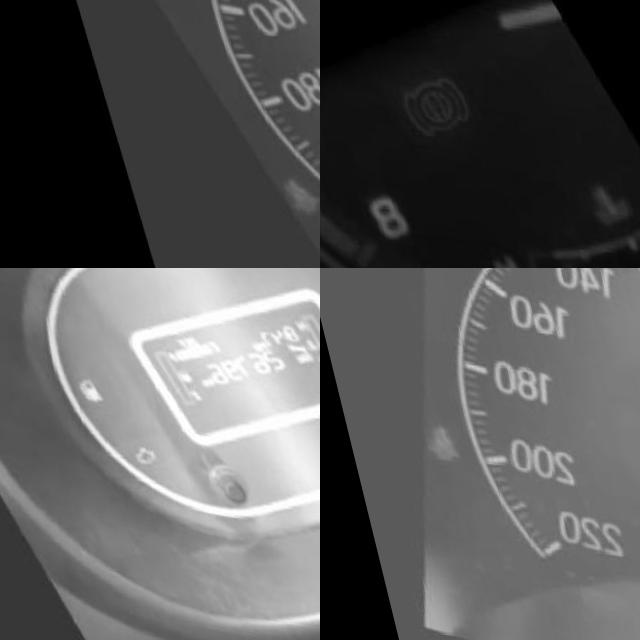Low fuel level: (53, 373, 89, 408)
